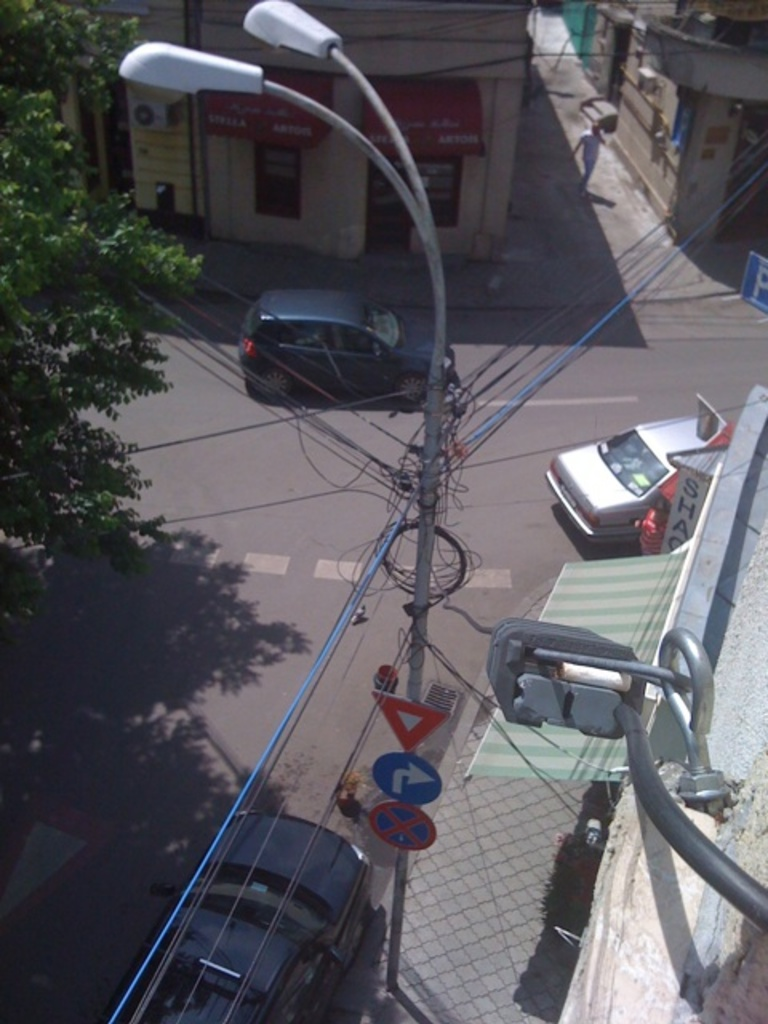Car: (121, 814, 363, 1022), (243, 291, 447, 401), (548, 428, 708, 568)
